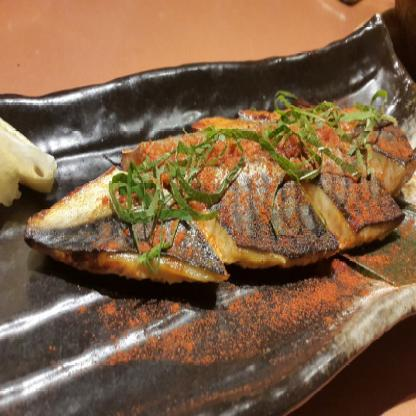Peixe: (8, 84, 416, 305)
